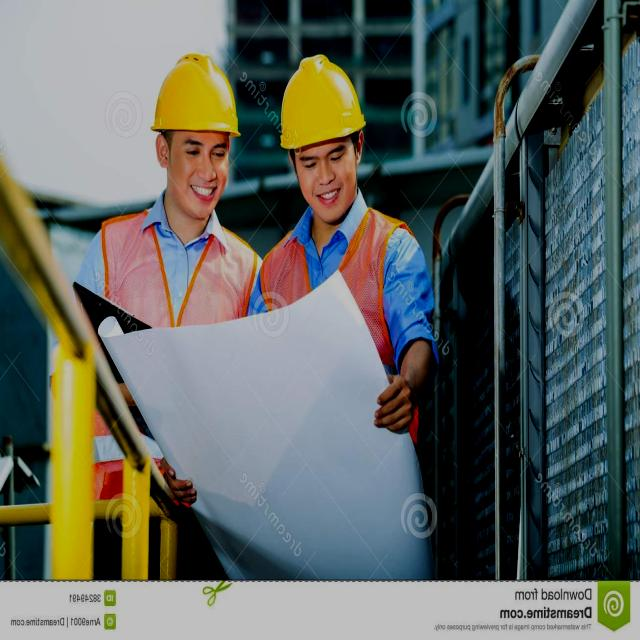helmet: (147, 49, 245, 154), (274, 53, 372, 158)
no-goggles: (273, 136, 373, 182), (146, 130, 246, 172)
vest: (264, 202, 412, 320), (100, 220, 246, 326)
